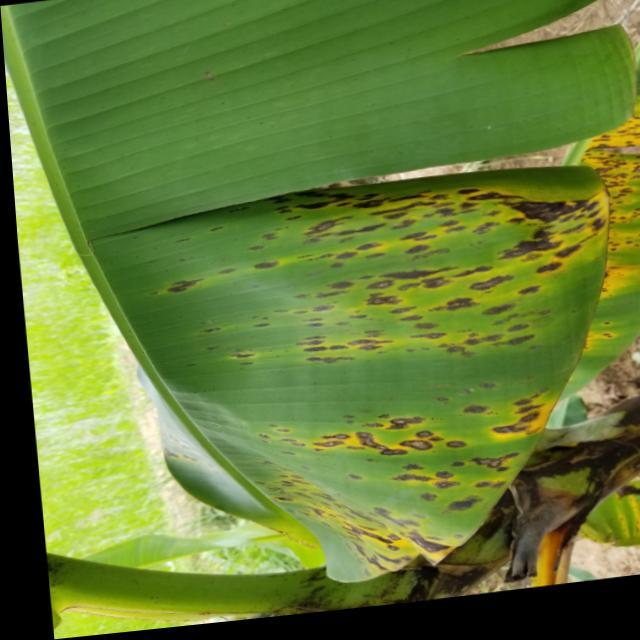Early_rust: (113, 97, 640, 586)
